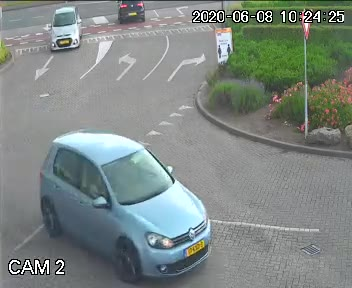car: (28, 123, 226, 284), (41, 4, 83, 56), (112, 0, 145, 25)
